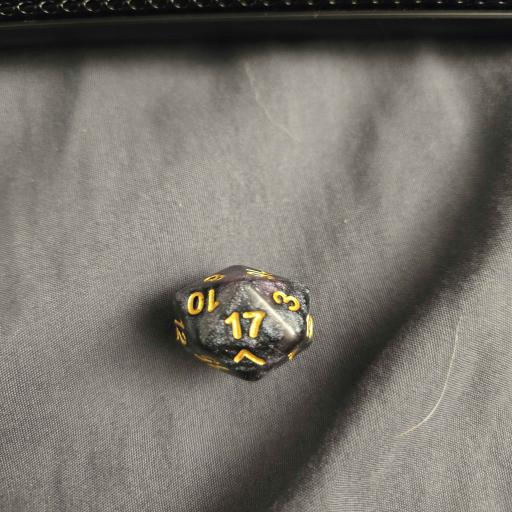twenty sided dice: (172, 265, 312, 381)
